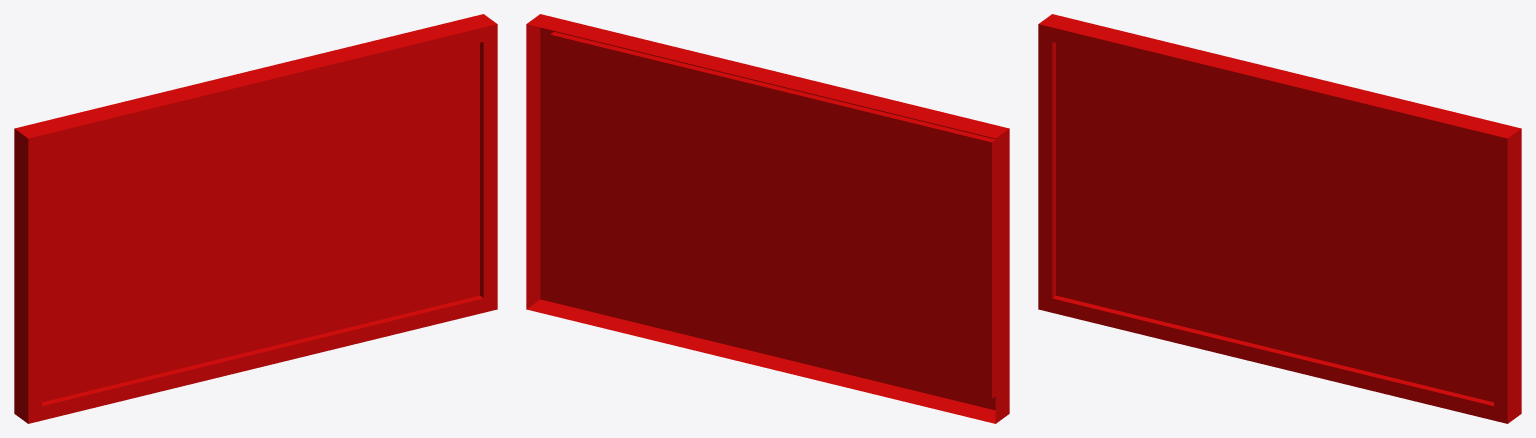
The picture shows the model from 3 angles, left to right: view 1: azimuth 30°, elevation 25°; view 2: azimuth 150°, elevation 25°; view 3: azimuth 330°, elevation 25°; orthographic projection.
Parts seen in each view (by area): view 1: TV_low; view 2: TV_low; view 3: TV_low.
Part boxes in pixels (x1,y1,x2,y2): TV_low: (14, 14, 497, 423); TV_low: (526, 14, 1009, 423); TV_low: (1038, 14, 1521, 423).
Bounding box in the file's own units: 116 × 67.29 × 5.91.
